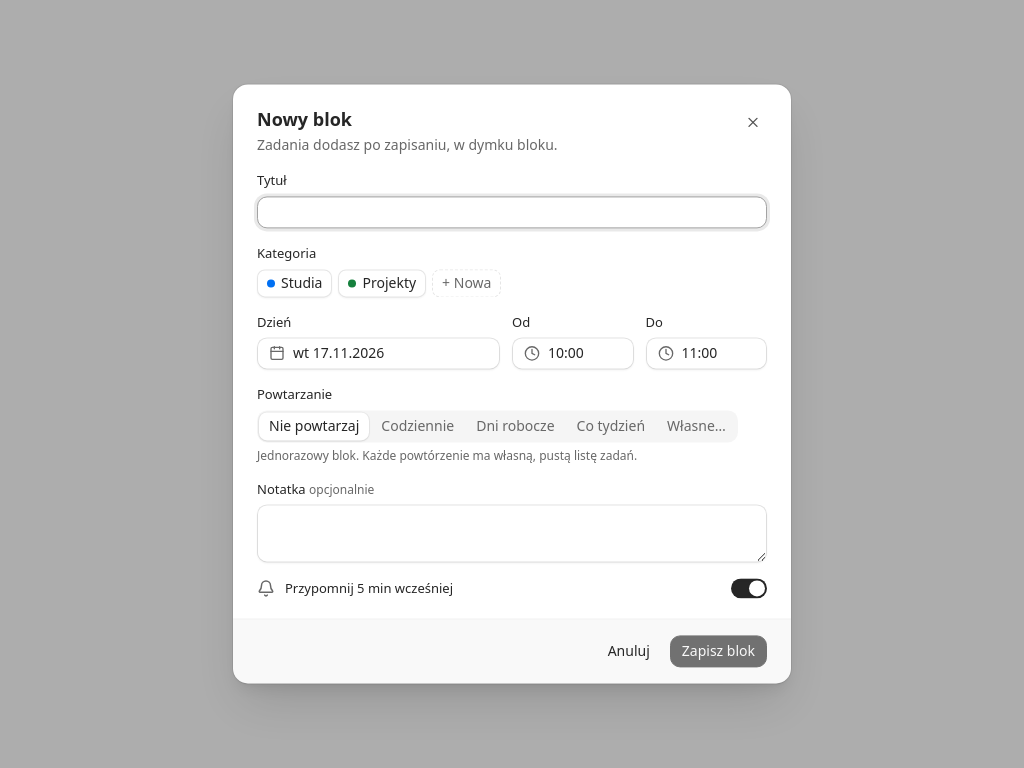
Scenario: BlockDialog › podsumowanie zmienia się na żywo z wyborem powtarzania
Expected: the text "Jednorazowy blok." is shown, [257,447,637,464]
What coordinates should you click on to do the following:
click the radio button labelled "Dni robocze"
I would click on:
 (515, 426)
Its box is [466,412,565,440].
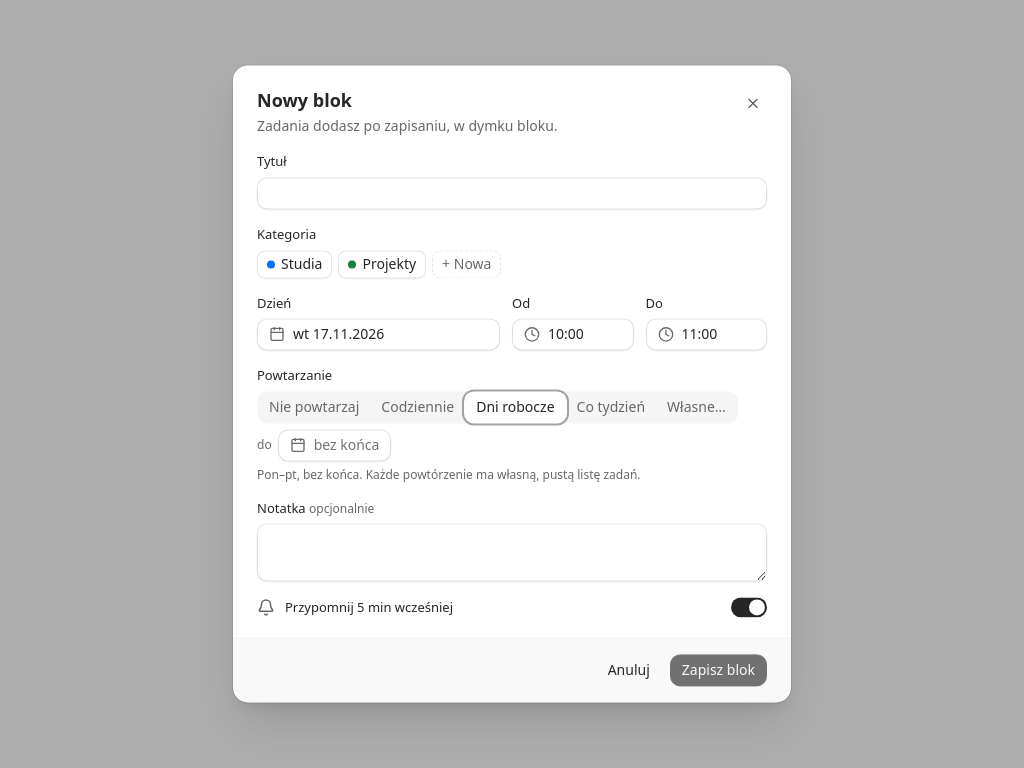
Expected: the text "Pon–pt, bez końca." is shown, [257,466,640,483]
